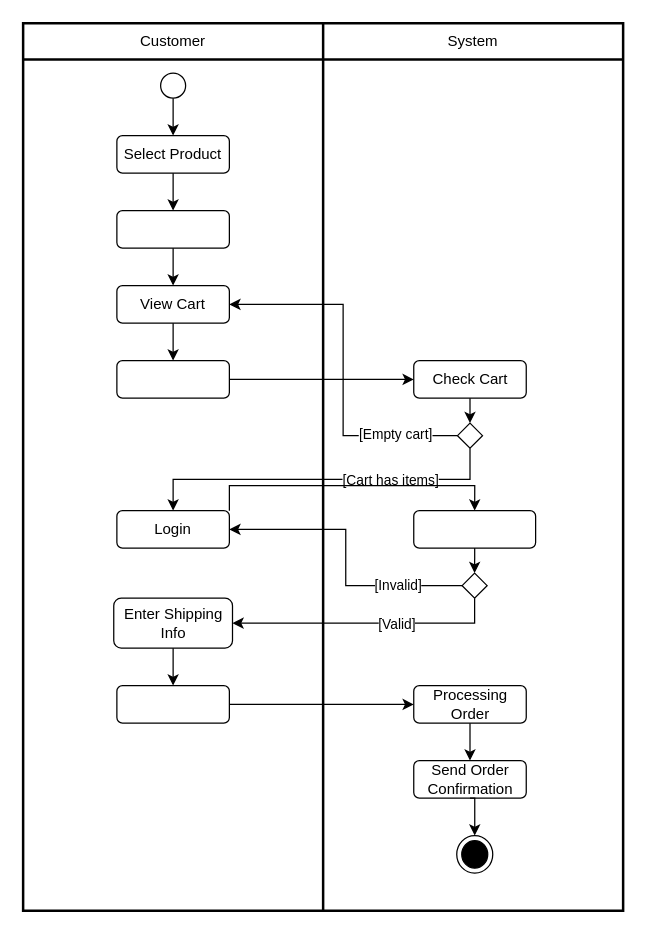
The diagram is 645 pixels wide and 933 high, and some of its shapes have lost their labels. The centre of each missing label's shape, as x and y in pixels:
"Add To Cart" goes at point 172,228.
"Check Account/Password" goes at point 474,528.
"Check Out" goes at point 172,378.
"Confirm Order" goes at point 172,703.
